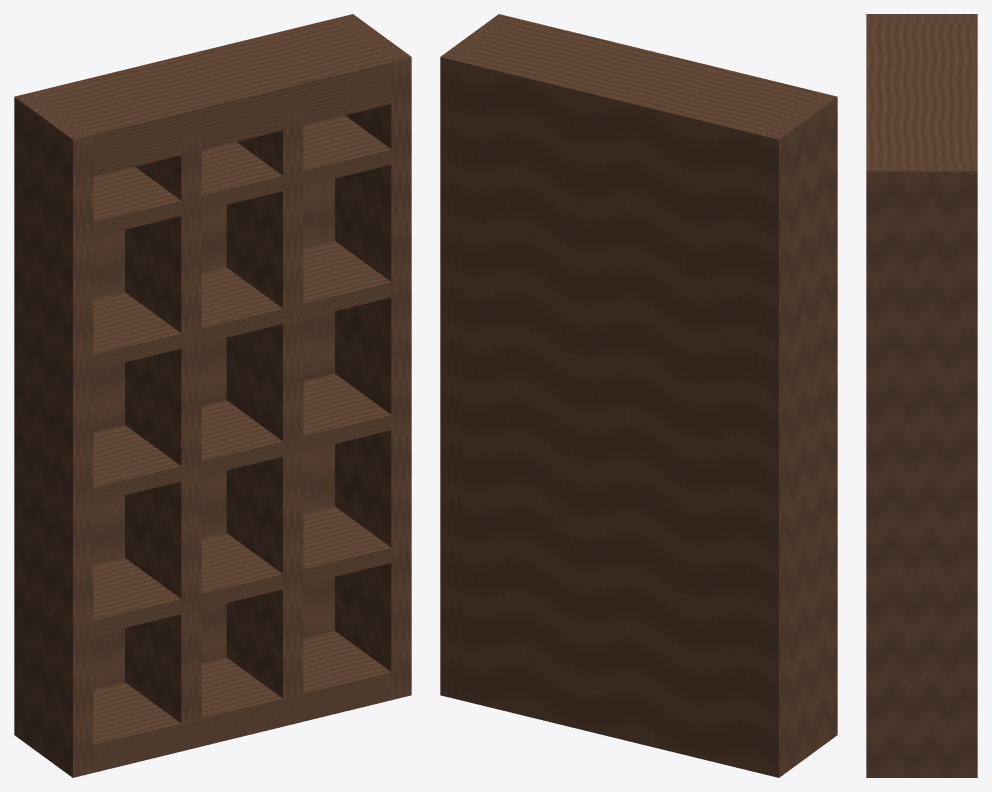
3 renders of one model, left to right at view 1: azimuth 30°, elevation 25°; view 2: azimuth 150°, elevation 25°; view 3: azimuth 270°, elevation 25°, orthographic. The views are drawn at different scales.
Parts seen in each view (by area): view 1: 2 left_side_panel, 3 right_side_panel, 5 right_vertical_divider, 4 left_vertical_divider, 7 top_header, 1 back_panel, 6 bottom_base, 10 shelf_3, 9 shelf_2, 8 shelf_1, 11 shelf_4; view 2: 1 back_panel, 2 left_side_panel, 7 top_header, 3 right_side_panel; view 3: 3 right_side_panel, 7 top_header, 1 back_panel, 2 left_side_panel.
Part boxes in pixels (x1=…): 2 left_side_panel: x1=14, y1=91, x2=93, y2=777; 3 right_side_panel: x1=333, y1=14, x2=411, y2=700; 5 right_vertical_divider: x1=226, y1=109, x2=303, y2=700; 4 left_vertical_divider: x1=125, y1=134, x2=201, y2=725; 7 top_header: x1=37, y1=20, x2=391, y2=176; 1 back_panel: x1=14, y1=14, x2=354, y2=736; 6 bottom_base: x1=93, y1=631, x2=391, y2=772; 10 shelf_3: x1=93, y1=241, x2=391, y2=369; 9 shelf_2: x1=93, y1=373, x2=391, y2=502; 8 shelf_1: x1=93, y1=506, x2=391, y2=635; 11 shelf_4: x1=93, y1=115, x2=391, y2=237; 1 back_panel: x1=440, y1=55, x2=781, y2=777; 2 left_side_panel: x1=758, y1=91, x2=837, y2=775; 7 top_header: x1=463, y1=19, x2=816, y2=132; 3 right_side_panel: x1=440, y1=14, x2=518, y2=699; 3 right_side_panel: x1=866, y1=161, x2=977, y2=777; 7 top_header: x1=866, y1=23, x2=973, y2=161; 1 back_panel: x1=973, y1=14, x2=977, y2=777; 2 left_side_panel: x1=866, y1=14, x2=977, y2=23.
Size of the model in its own units: 0.5556 by 1 by 0.1667.
1 material, 1 textured.
